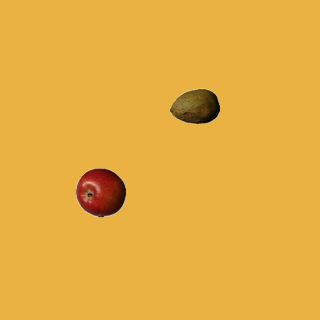Apple Braeburn: (75, 167, 125, 217)
Papaya: (169, 81, 219, 131)
